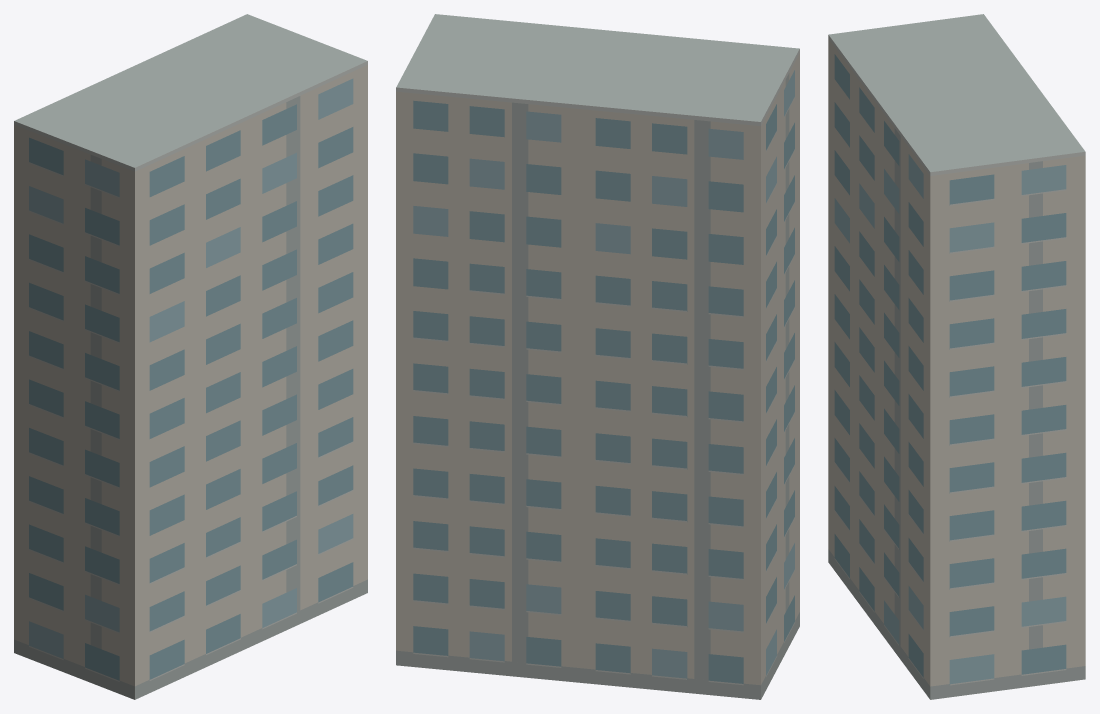
File: residential-82e9f8f6-1d7b-4fa9-9d0a-7771f825cf7f.glb
3 views of the same model, side by side, from view 1: azimuth 30°, elevation 25°; view 2: azimuth 150°, elevation 25°; view 3: azimuth 270°, elevation 25° (orthographic). The views are drawn at different scales.
Visible parts, largest first — view 1: residential-82e9f8f6-1d7b-4fa9-9d0a-7771f825cf7f.tmp; view 2: residential-82e9f8f6-1d7b-4fa9-9d0a-7771f825cf7f.tmp; view 3: residential-82e9f8f6-1d7b-4fa9-9d0a-7771f825cf7f.tmp.
Boxes of the visible parts, x1,y1,x2,y2 form: residential-82e9f8f6-1d7b-4fa9-9d0a-7771f825cf7f.tmp: (14, 14, 367, 699); residential-82e9f8f6-1d7b-4fa9-9d0a-7771f825cf7f.tmp: (396, 14, 799, 699); residential-82e9f8f6-1d7b-4fa9-9d0a-7771f825cf7f.tmp: (828, 14, 1085, 699).
Size of the model in its own units: 21.88 by 34 by 15.03.
